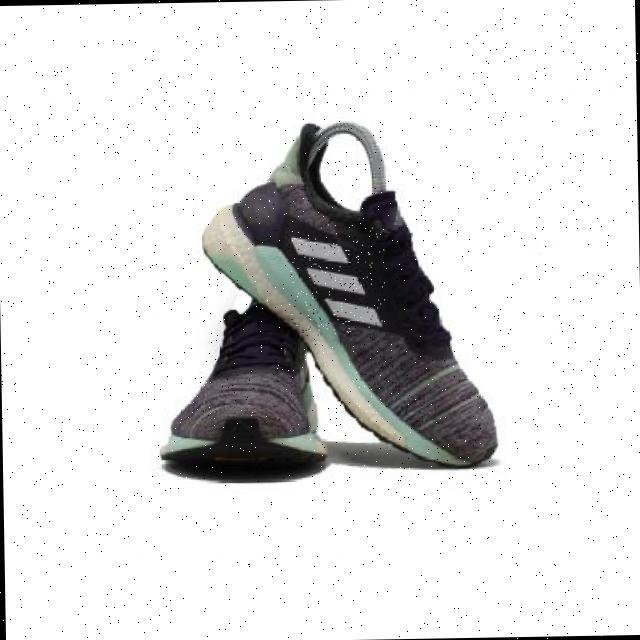Adidas: (287, 223, 386, 337)
